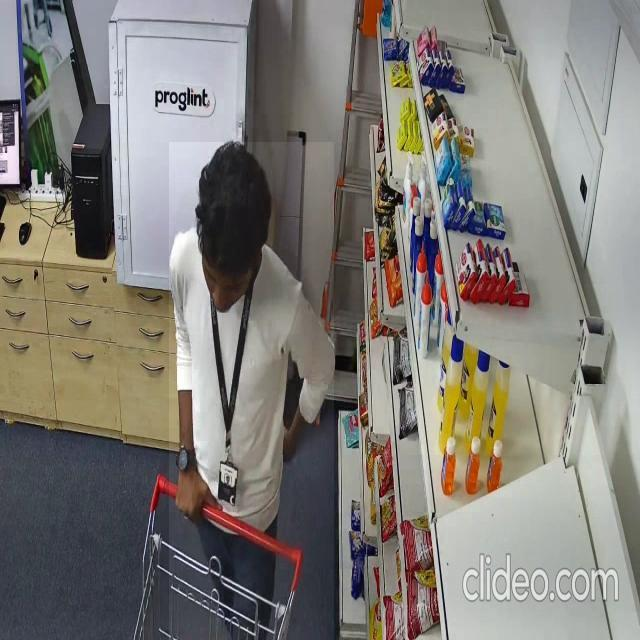Shoplifting: (169, 142, 334, 640)
